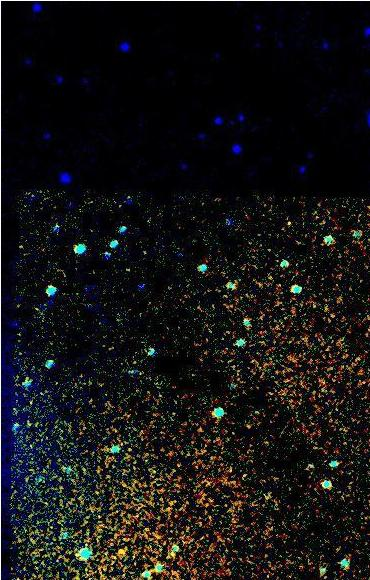star: (106, 537, 136, 567)
